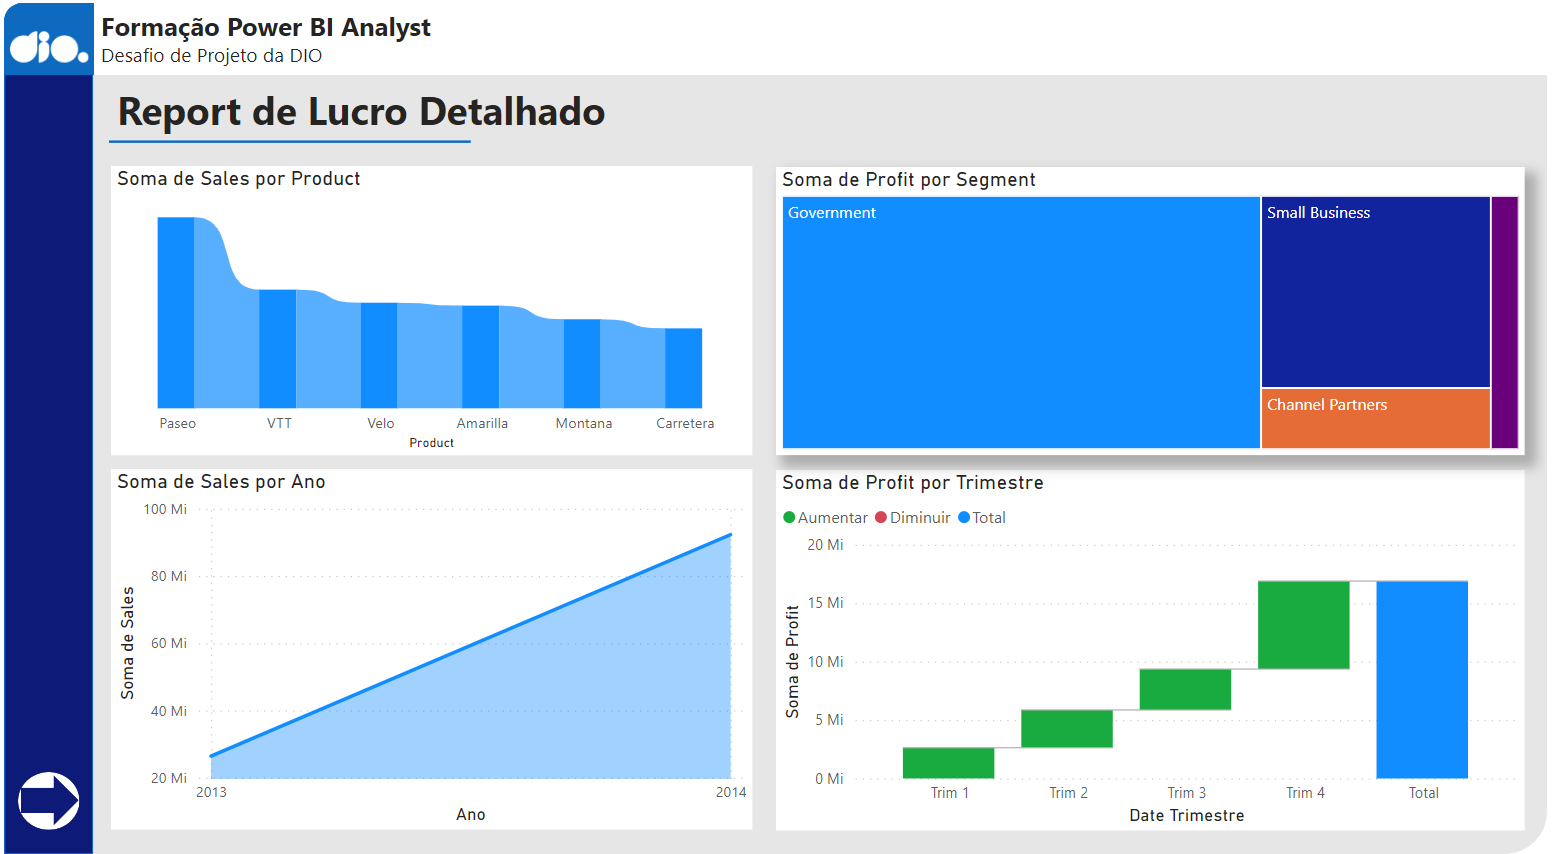

The page's visual inventory and layout, read from the dashboard file:
{"tool":"powerbi","page":{"name":"Página 2","canvas":[1280,720],"ordinal":1},"visuals":[{"type":"shape","box":[11.9,651.9,51.2,47.8],"z":0,"group":"g1"},{"type":"shape","box":[0,14.3,1280,705.7],"z":0},{"type":"shape","box":[14.7,654.6,48.4,42.5],"z":1000,"group":"g1"},{"type":"shape","box":[0,14.3,74.3,705.7],"z":1000},{"type":"shape","box":[0,14.3,75.7,60],"z":2000},{"type":"shape","box":[74.3,14.3,1205.7,60],"z":3000},{"type":"textbox","box":[75.1,13.7,1186.1,61.4],"z":4000},{"type":"textbox","box":[88.7,75.1,551.3,54.6],"z":5000},{"type":"shape","box":[87.1,121.4,300,15.7],"z":6000},{"type":"image","box":[0,26.8,74.8,48],"z":7000},{"type":"group","id":"g1","title":"Grupo 4","box":[11.9,651.9,51.2,47.8],"z":8000},{"type":"waterfallChart","fields":{"Y":["Sum(financials.Profit)"],"Category":["financials.Date.Variation.Hierarquia de datas.Trimestre"]},"box":[640,401.1,621.2,298.7],"z":9000},{"type":"treemap","fields":{"Values":["Sum(financials.Profit)"],"Group":["financials.Segment"]},"box":[640,150.2,621.2,238.9],"z":10000},{"type":"areaChart","fields":{"Category":["financials.Date.Variation.Hierarquia de datas.Ano"],"Y":["Sum(financials. Sales)"]},"box":[88.9,400.9,532.2,299.3],"z":11000},{"type":"ribbonChart","fields":{"Y":["Sum(financials. Sales)"],"Category":["financials.Product"]},"box":[88.9,149.6,532.2,240],"z":12000}]}

Visuals, with their boxes in screenshot pixels (x1, y1, x2, y2), scaled from the page's 1280x720 canvas onto the 1556x854 screenshot:
shape: 14,773,77,830
shape: 0,17,1555,853
shape: 18,776,77,827
shape: 0,17,90,853
shape: 0,17,92,88
shape: 90,17,1555,88
textbox: 91,16,1533,89
textbox: 108,89,778,154
shape: 106,144,471,163
image: 0,32,91,89
"Grupo 4" group: 14,773,77,830
waterfallChart - Sum(financials.Profit) x financials.Date.Variation.Hierarquia de datas.Trimestre: 778,476,1533,830
treemap - Sum(financials.Profit) x financials.Segment: 778,178,1533,462
areaChart - financials.Date.Variation.Hierarquia de datas.Ano x Sum(financials. Sales): 108,476,755,831
ribbonChart - Sum(financials. Sales) x financials.Product: 108,177,755,462
